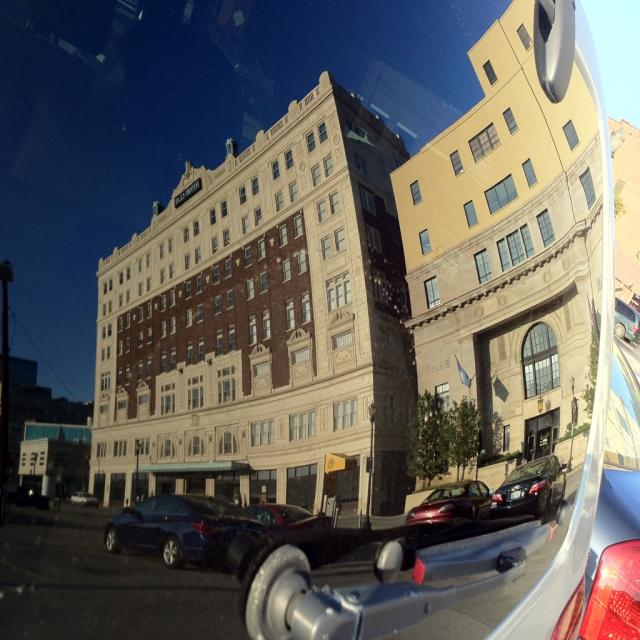car: (99, 484, 269, 571), (7, 483, 54, 510), (70, 488, 99, 502)
